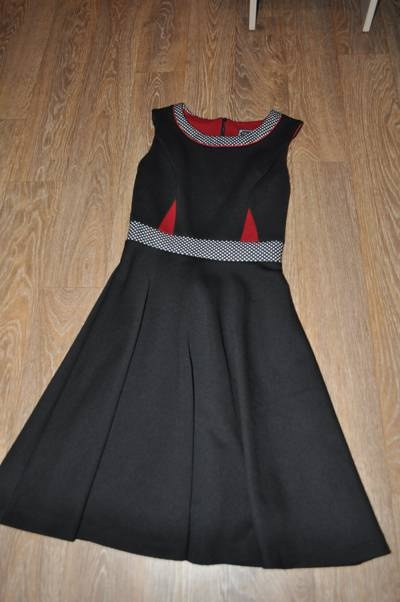Dress: (9, 88, 398, 577)
